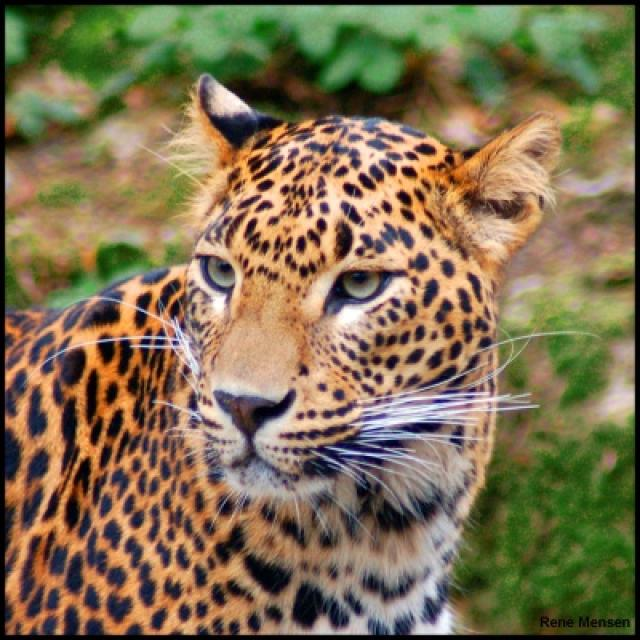Jaguar: (3, 75, 562, 638)
